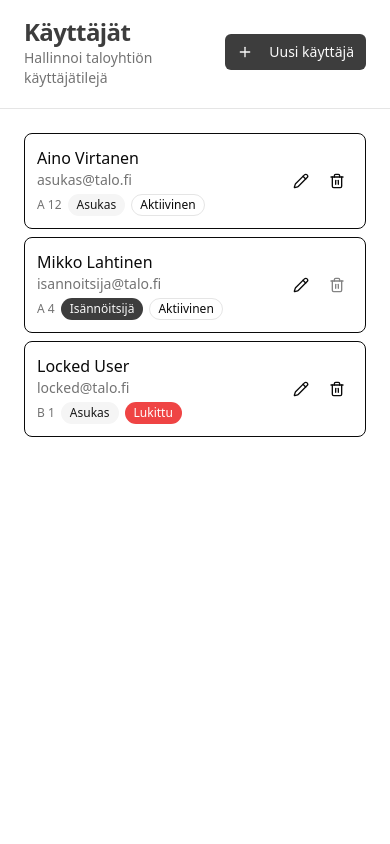
UsersPage › opens delete confirmation dialog
Click the button named "Poista käyttäjä" in the row of "Aino Virtanen".
click(337, 181)  # box [321,165,353,197]
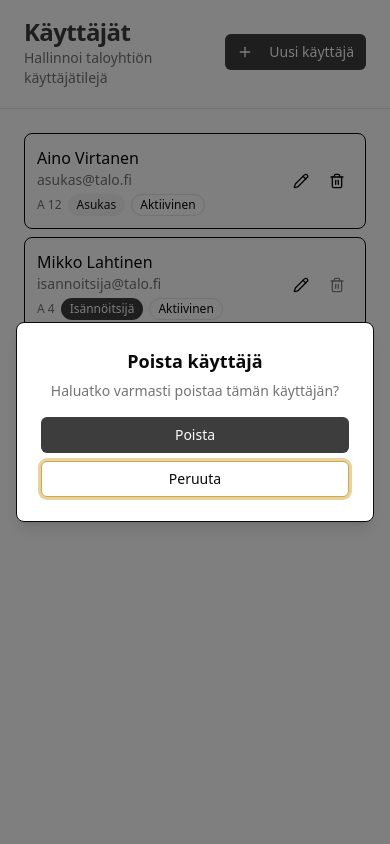
Check: the text "Haluatko varmasti poistaa tämän käyttäjän?" is shown, box [51,381,339,401]
